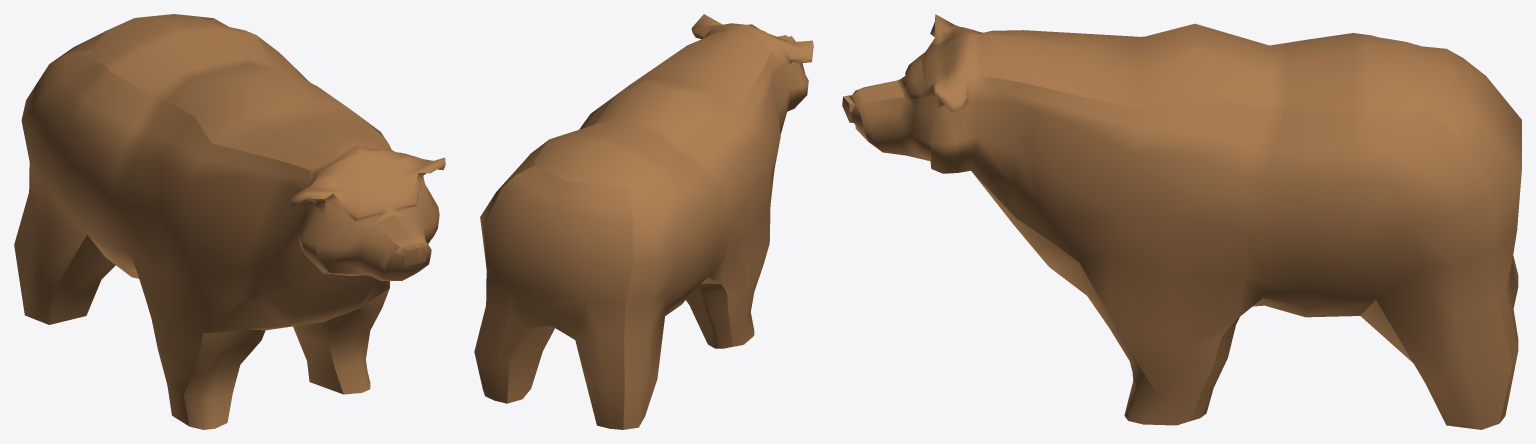
Rendered from BEAR_UNWRAPPED.fbx.
3 renders of one model, left to right at view 1: azimuth 30°, elevation 25°; view 2: azimuth 150°, elevation 25°; view 3: azimuth 270°, elevation 25°, orthographic. The views are drawn at different scales.
Visible parts, largest first — view 1: Bear_Mesh; view 2: Bear_Mesh; view 3: Bear_Mesh.
Part boxes in pixels (x1,y1,x2,y2): Bear_Mesh: [14, 14, 445, 429]; Bear_Mesh: [474, 14, 813, 429]; Bear_Mesh: [842, 14, 1521, 429].
Bounding box in the file's own units: 3.53 × 4.54 × 8.15.
